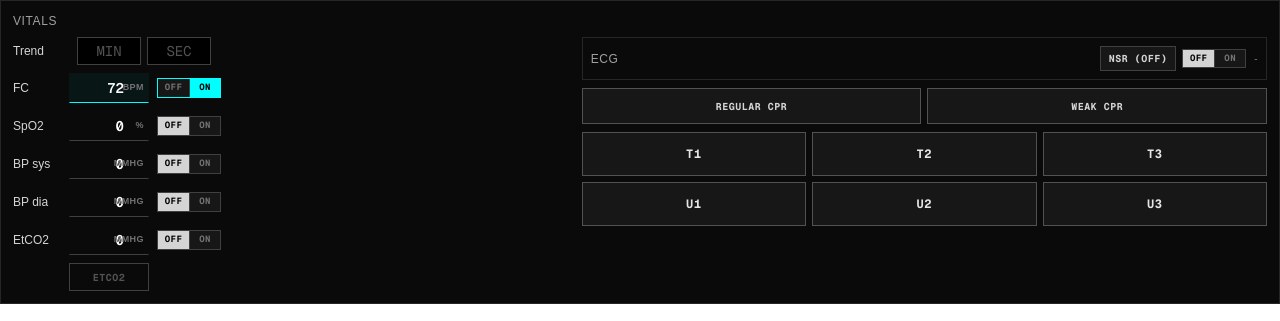
Scenario: VitalsControls › locks active Asystole at FC zero and restores the manual FC when ECG turns Off
The width and height of the screenshot is (1280, 321).
Click the button "NSR (Off)" at (1138, 58), box [1100,46,1176,71]
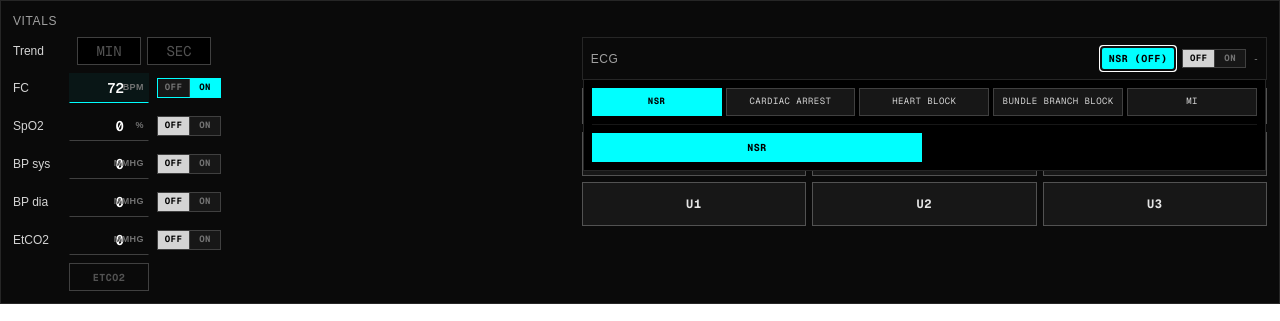
Click the button "Cardiac Arrest" at (790, 102), box [726,88,855,116]
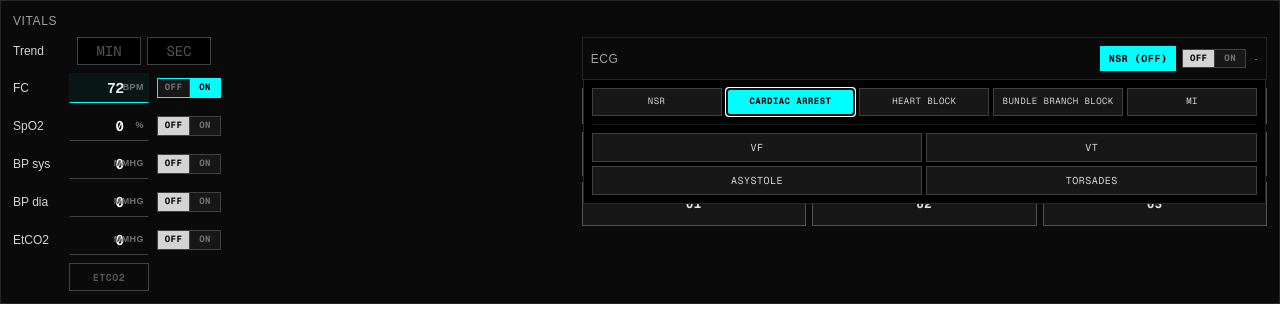
Click the button "Asystole" at (757, 180), box [592,166,922,194]
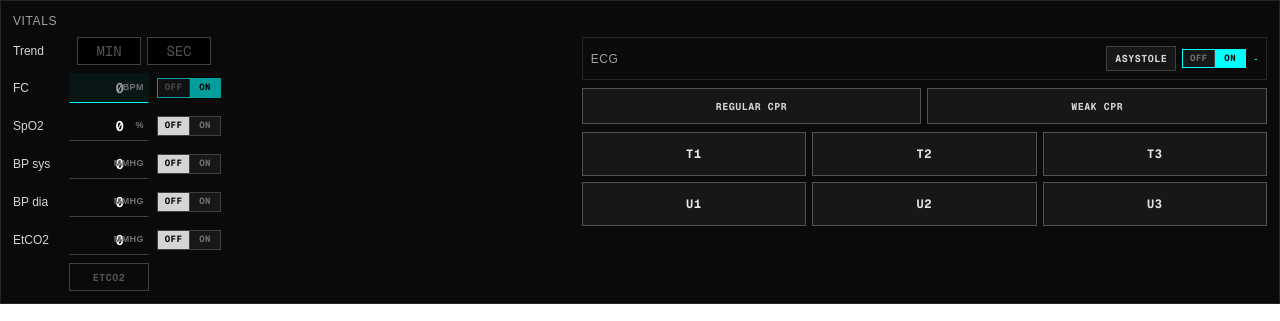
Expected: the field labelled "FC" is disabled, [70,74,148,102]
Expected: the field labelled "FC" holds "0", [70,74,148,102]
Expected: the button with aria-label "FC on" is disabled, [157,78,221,98]
Click the button with aria-label "ECG on" at (1214, 59), box [1182,49,1246,68]
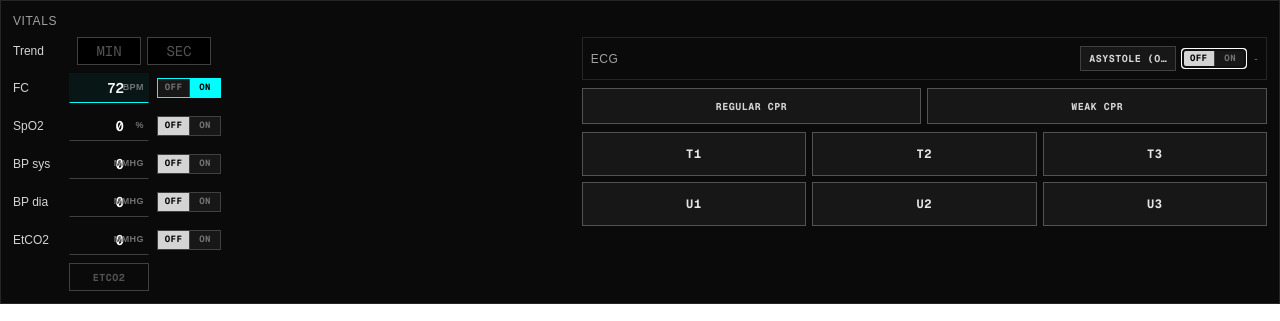
Expected: the number field labelled "FC" is enabled, [70,74,148,102]
Expected: the number field labelled "FC" holds "72", [70,74,148,102]
Expected: the button with aria-label "FC on" is enabled, [157,78,221,98]
